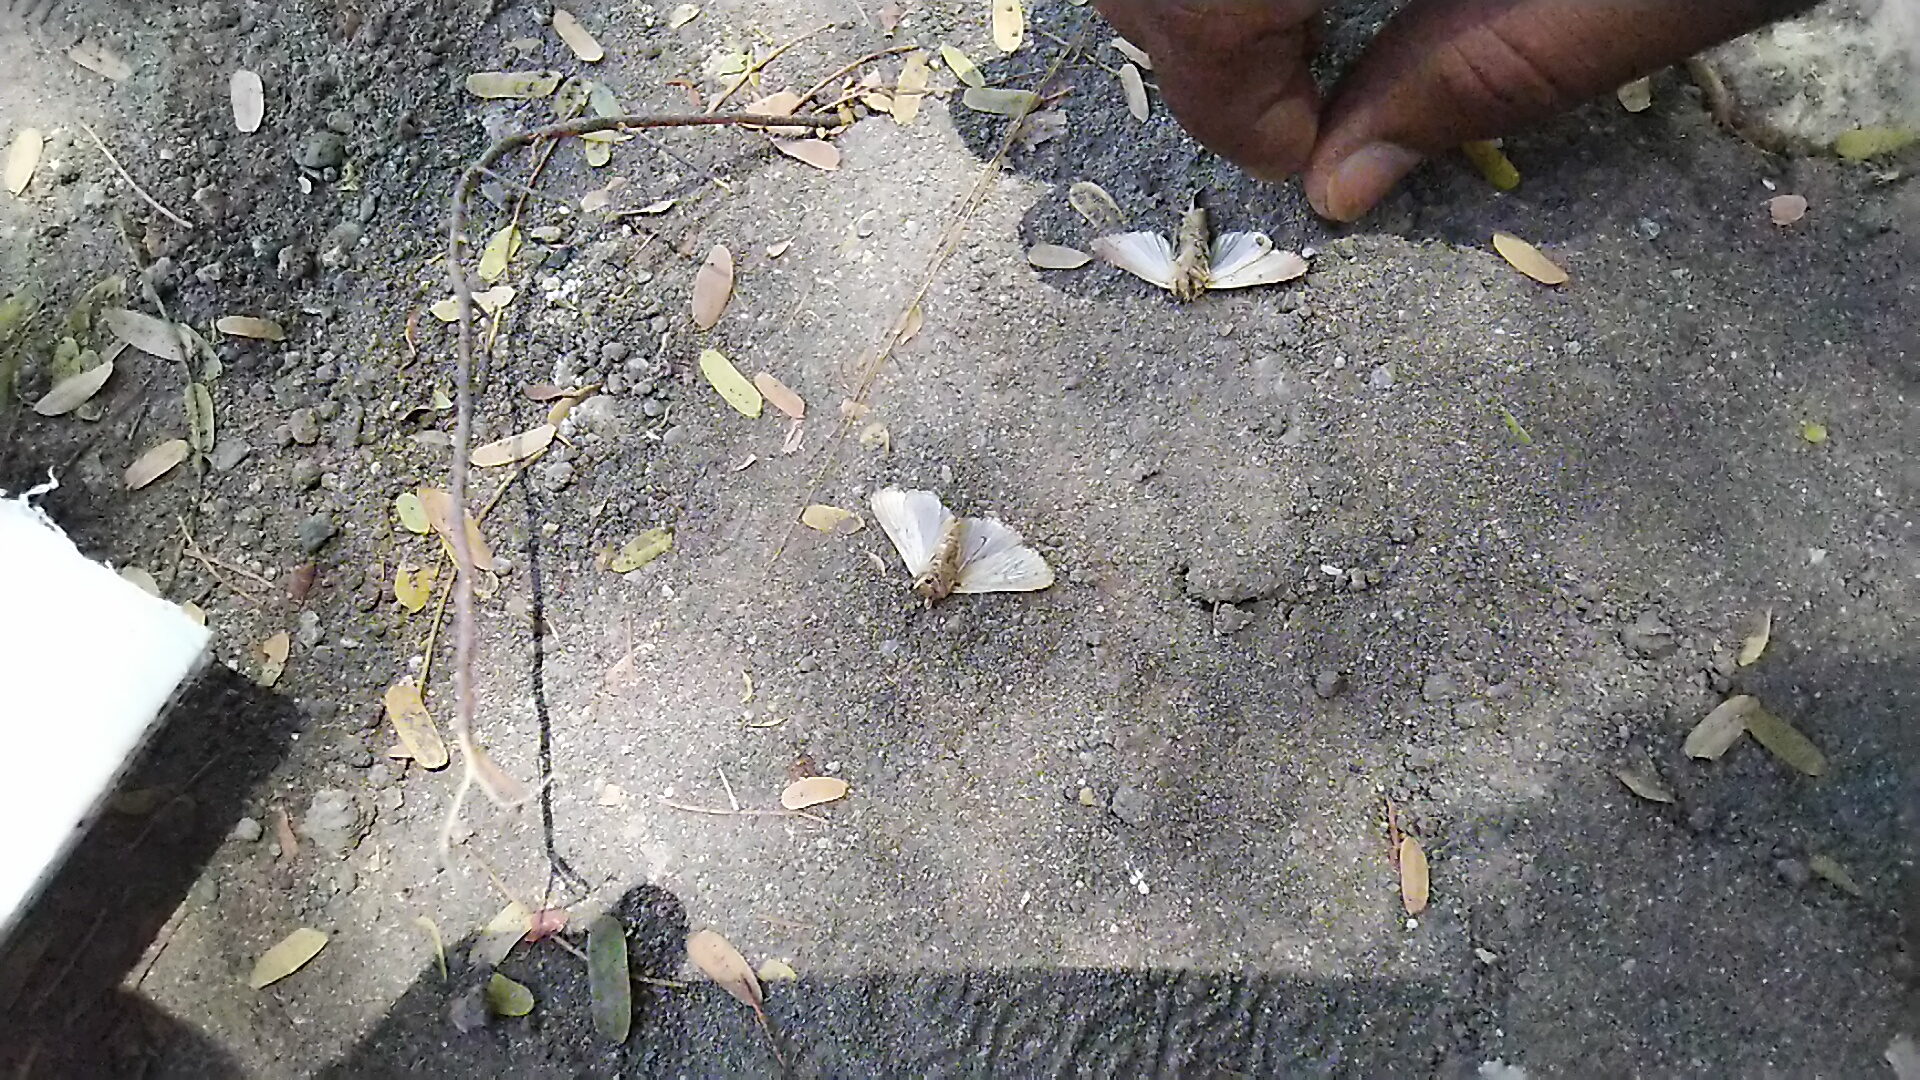INS-B: (857, 471, 1069, 611), (1087, 189, 1313, 315)
